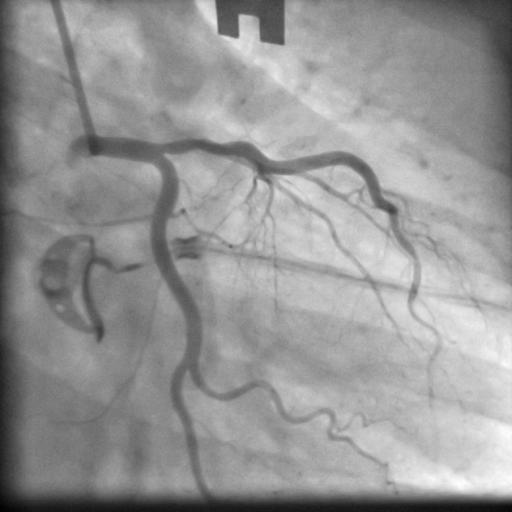Stenosis: (175, 135, 227, 155)
